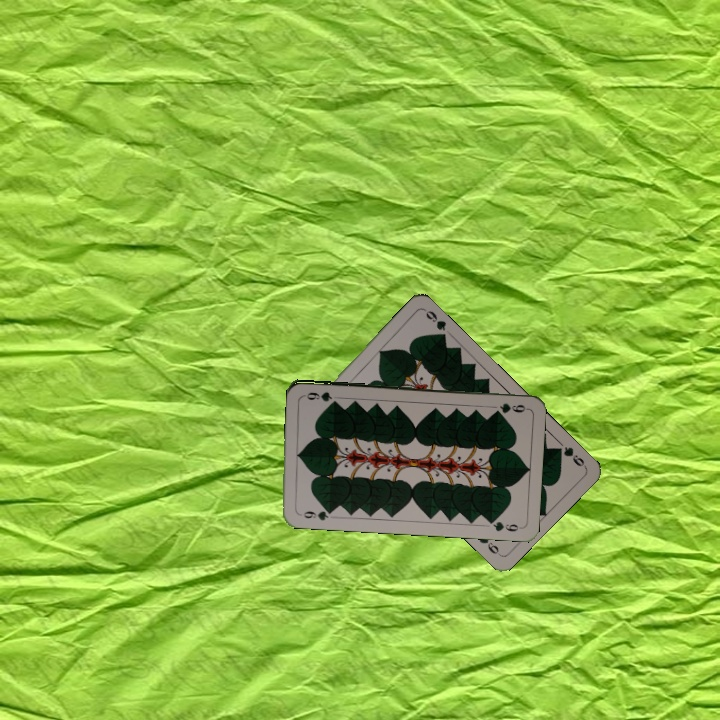G9: (551, 442, 588, 470), (294, 505, 335, 523), (496, 399, 530, 415)
